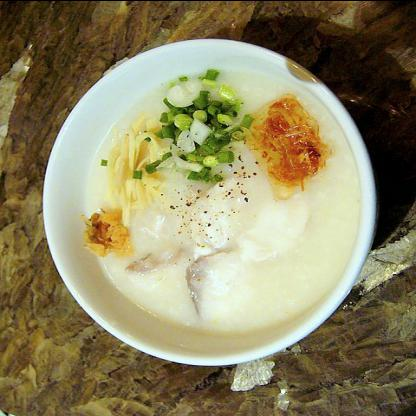Joke: (81, 50, 372, 350)
